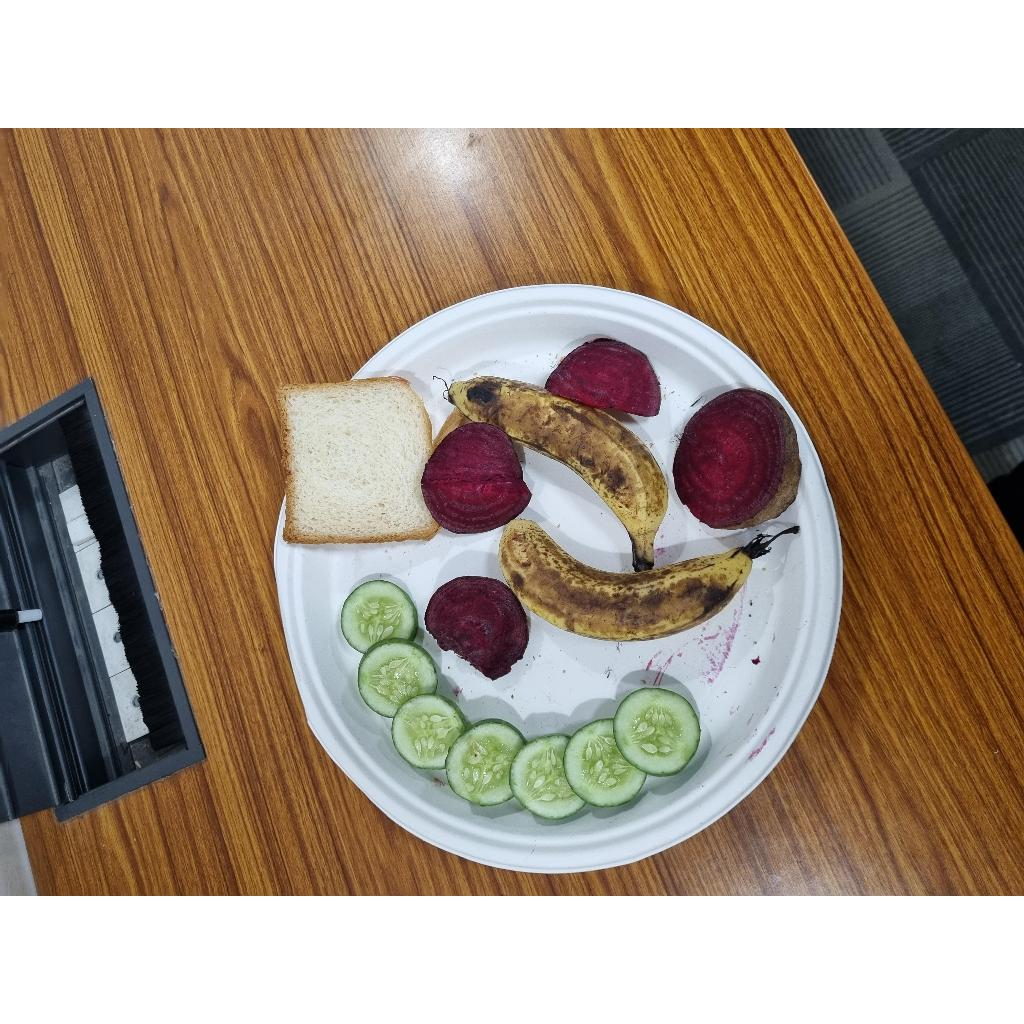banana: (448, 377, 668, 569), (500, 519, 752, 641)
cucumber: (613, 687, 700, 776), (564, 718, 646, 807), (446, 719, 526, 806), (358, 638, 438, 718), (509, 734, 584, 819), (392, 695, 468, 770), (340, 580, 418, 653)
